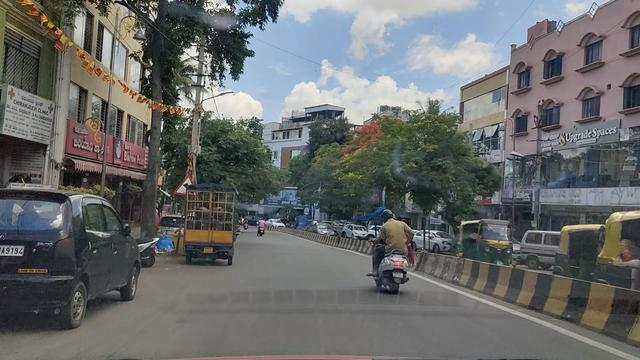LMV: (0, 207, 124, 360), (180, 191, 237, 266), (376, 211, 412, 305)
